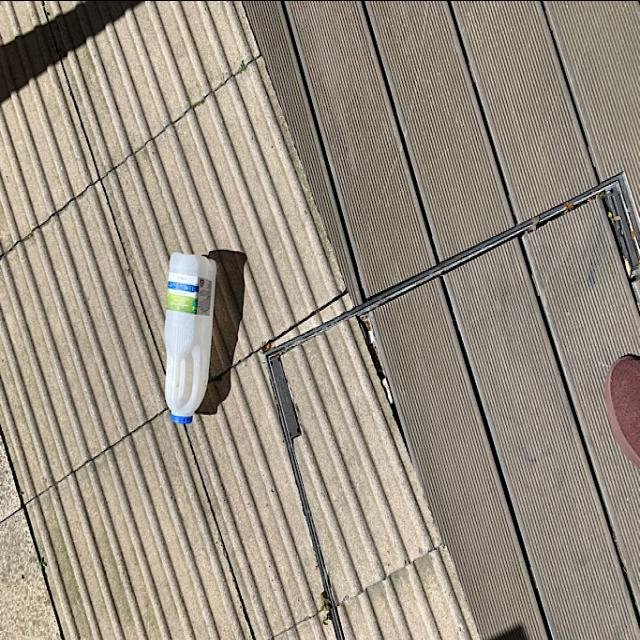HDPEM: (160, 245, 220, 433)
